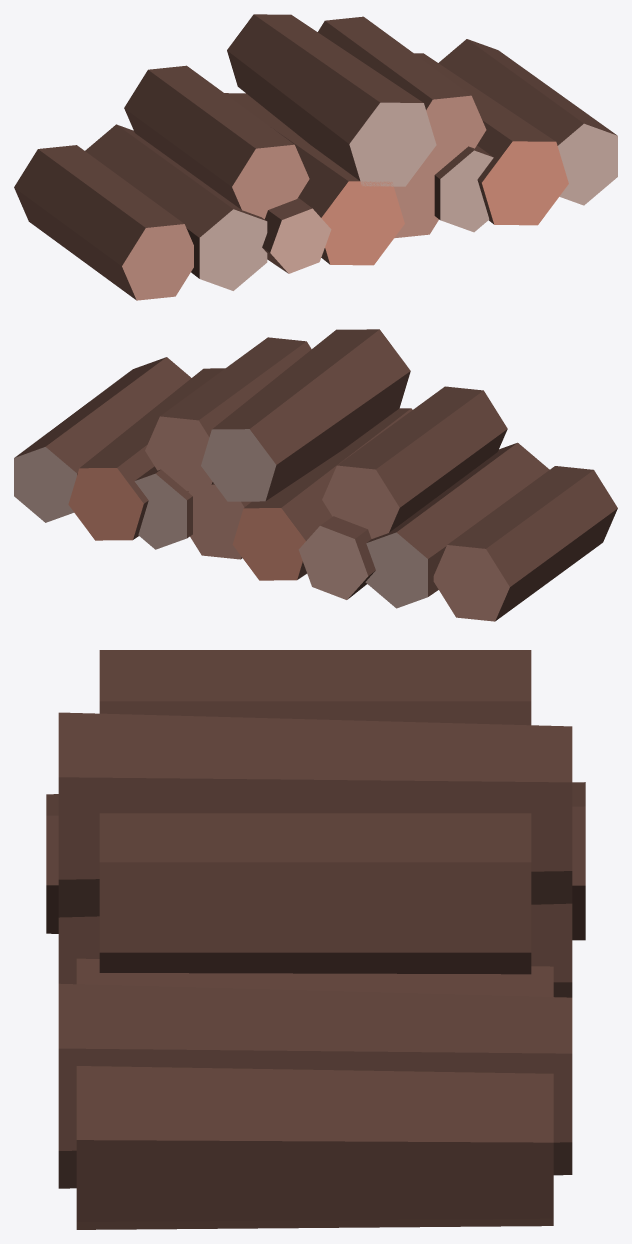
Rendered from props_068.glb.
3 views of the same model, one above another, from view 1: azimuth 30°, elevation 25°; view 2: azimuth 150°, elevation 25°; view 3: azimuth 270°, elevation 25° (orthographic). The views are drawn at different scales.
Parts seen in each view (by area): view 1: props_068; view 2: props_068; view 3: props_068.
Part boxes in pixels (<box>): props_068: <box>14,14,617,300</box>; props_068: <box>14,329,617,621</box>; props_068: <box>46,650,585,1229</box>.
Size of the model in its own units: 2.23 by 0.7008 by 1.06.
Materials: 1 (1 with a texture image).
